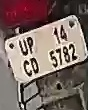1: (51, 27, 62, 45)
2: (68, 42, 79, 62)
4: (60, 24, 68, 41)
5: (47, 48, 58, 69)
7: (55, 47, 63, 66)
8: (62, 46, 69, 63)
C: (22, 60, 32, 76)
D: (30, 57, 40, 72)
P: (26, 35, 35, 54)
U: (17, 39, 29, 56)
